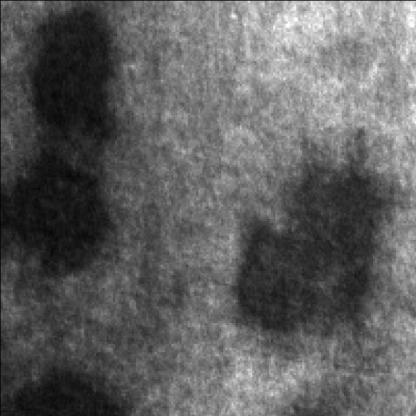patches: (229, 141, 387, 344), (0, 16, 110, 281), (0, 364, 125, 416)
